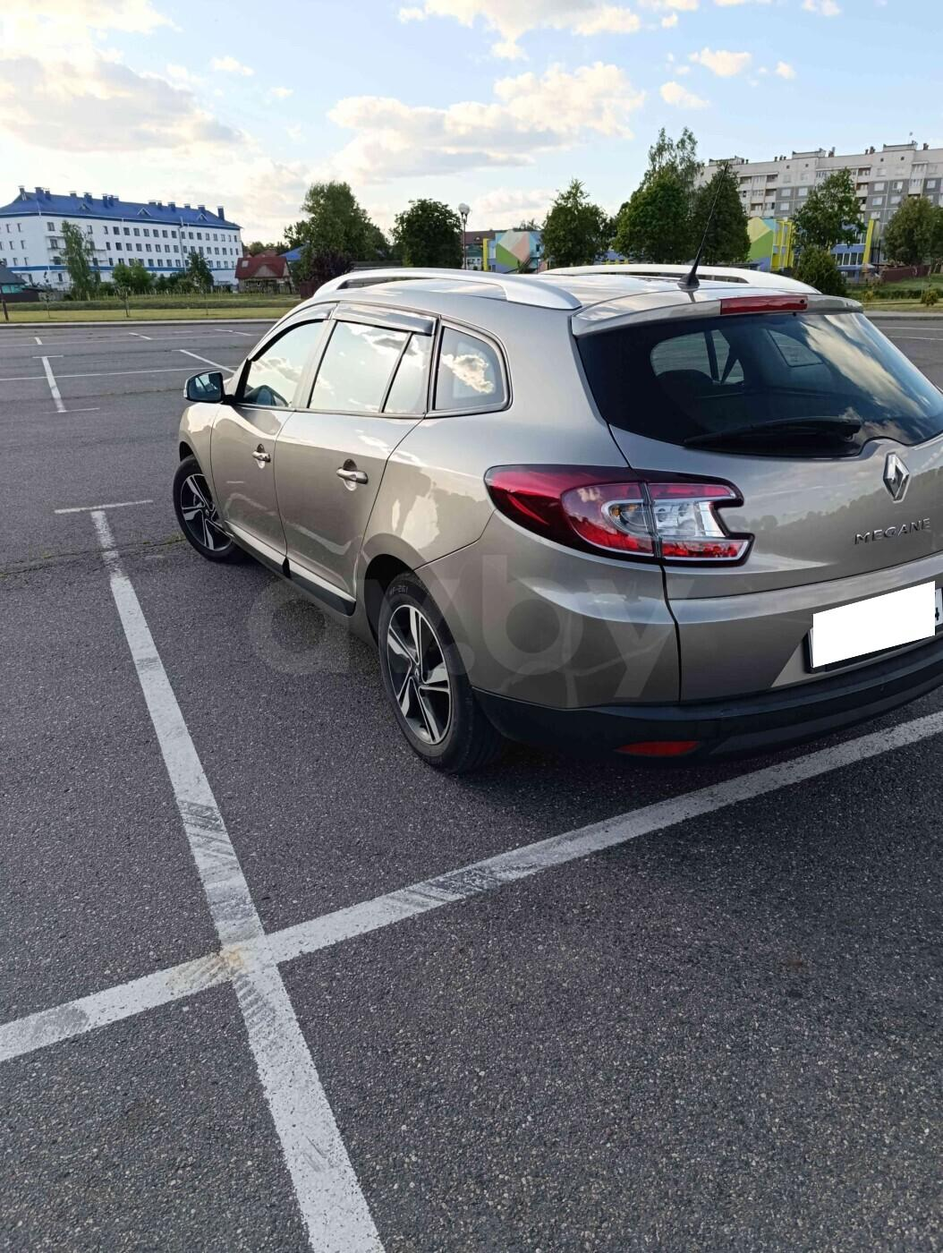Megane_2012-2014: (152, 265, 943, 780)
